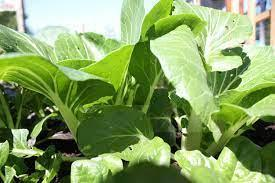Healthy-Pechay: (31, 18, 268, 178)
